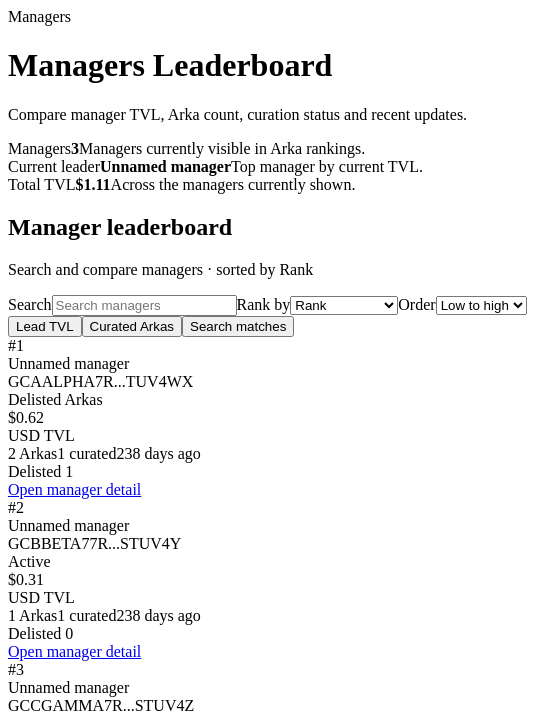
Test: manager and asset explorers › filters manager leaderboard results and links to detail
Check: the heading "Managers Leaderboard" is shown, box x1=8 y1=47 x2=332 y2=83
Check: the element with test id "managers-spotlight-tabs" shows "Lead TVL", box x1=8 y1=316 x2=82 y2=337
In the search field with test id "managers-search-input": [144, 305] box x1=52 y1=295 x2=236 y2=316, type "beta"
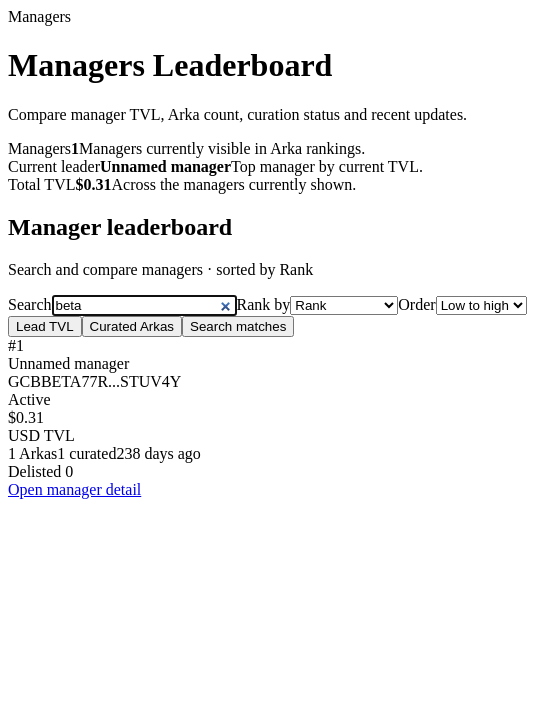
Click the button with test id "managers-spotlight-tab-search": [238, 326] box x1=182 y1=316 x2=294 y2=337
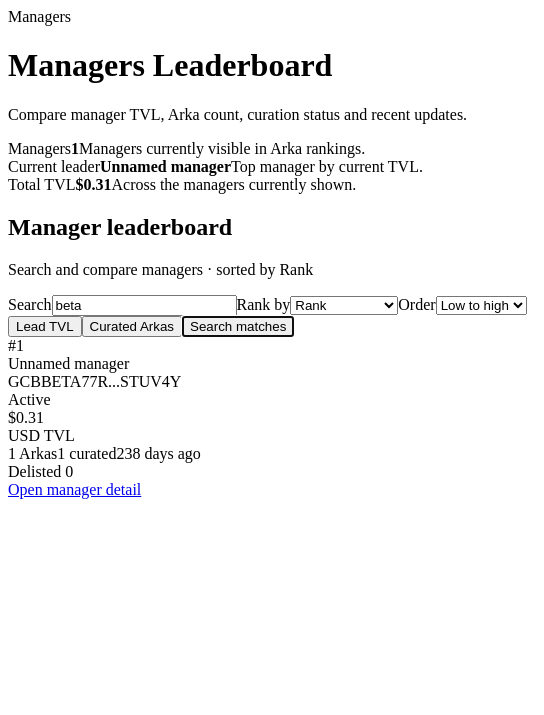
Check: the text "GCBBETA77R...STUV4Y" is shown, box x1=8 y1=373 x2=181 y2=390
Select "Arka count" in the dropdown with test id "managers-sort-metric": [344, 305] box x1=290 y1=296 x2=398 y2=315
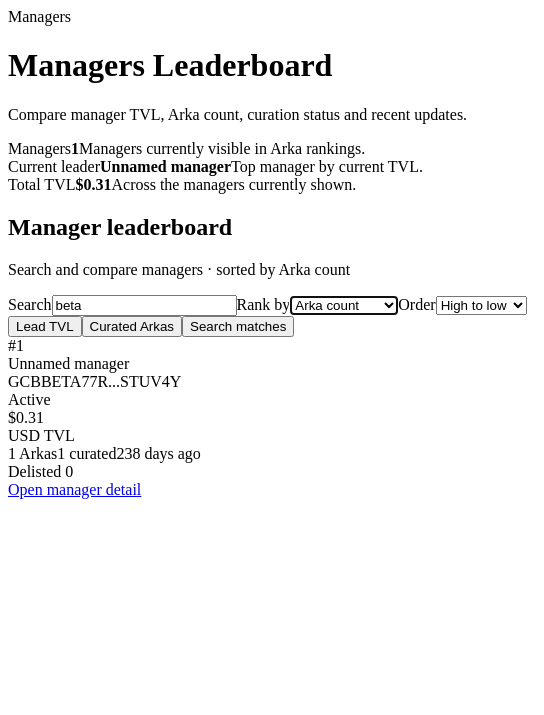
Check: the element with test id "managers-list-panel" shows "GCBBETA", box x1=8 y1=373 x2=181 y2=390
Check: the number of elements with test id "manager-card" is 1, box x1=8 y1=337 x2=201 y2=498
Check: the element with test id "managers-list-panel" shows "sorted by Arka count", box x1=8 y1=261 x2=350 y2=278
